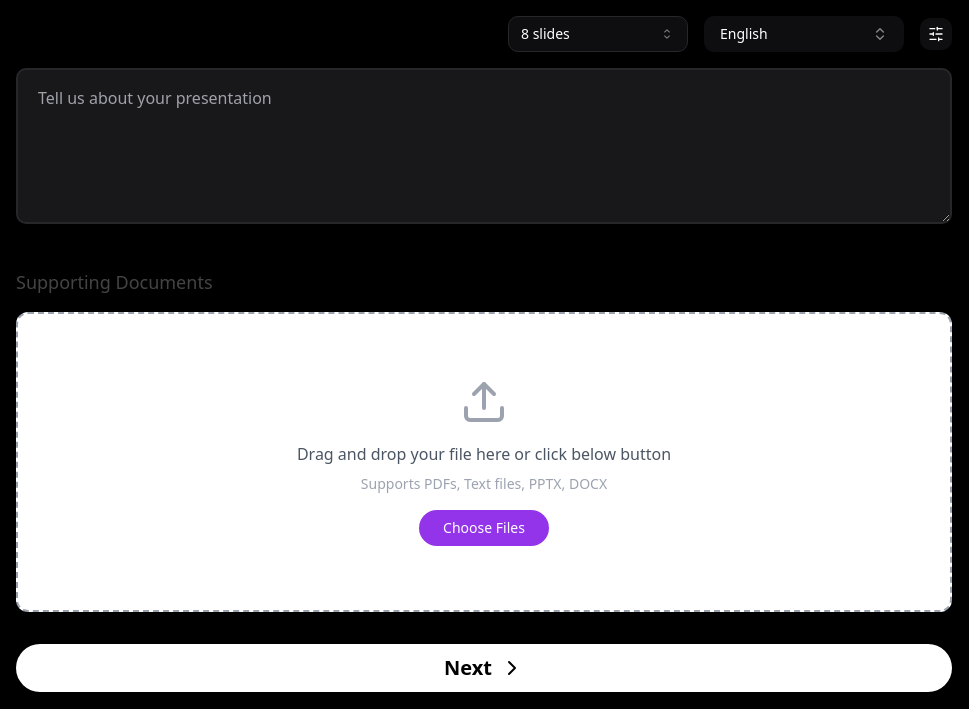
Test: <UploadPage /> › Configuration Selection › should allow selecting number of slides
// Force click to handle any overlay issues
Click the dropdown with test id "slides-select" at (598, 34), box [508,16,688,52]
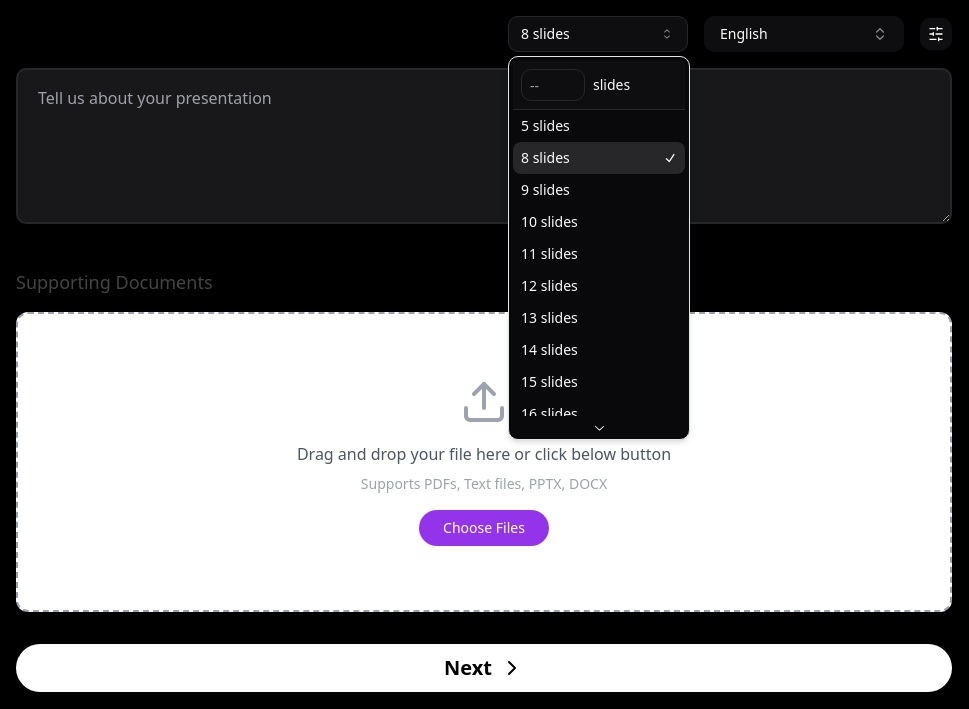
expect the option "5 slides" is shown: met, box [521,116,570,135]
// Click the option
Click the text "12" at (550, 286), box [521,276,578,296]
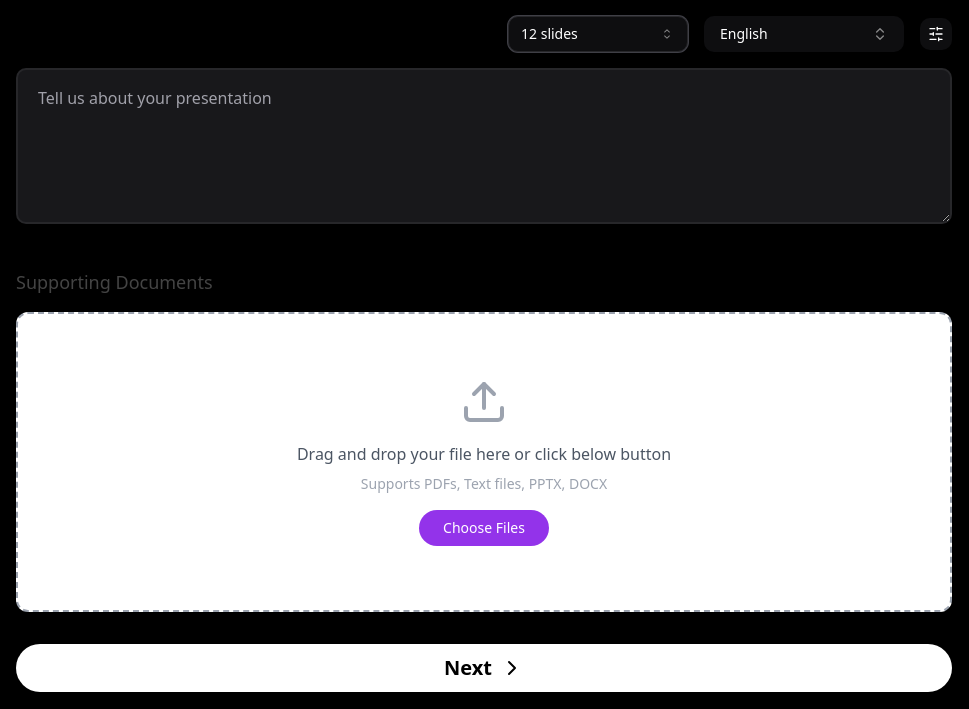
expect the text with test id "slides-select" shows "12": met, box [521,24,537,43]
